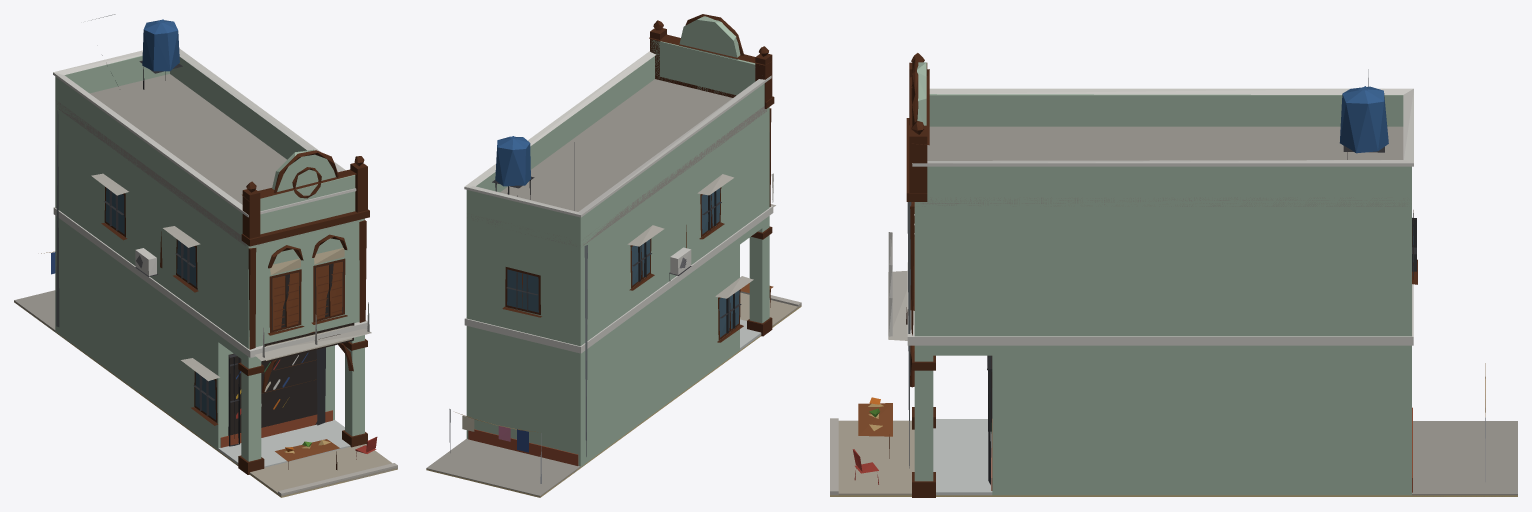
File: bay1_left.glb
The picture shows the model from 3 angles, left to right: view 1: azimuth 30°, elevation 25°; view 2: azimuth 150°, elevation 25°; view 3: azimuth 270°, elevation 25°; orthographic projection. The views are drawn at different scales.
Parts seen in each view (by area): view 1: body, windows; view 2: body, windows; view 3: body.
Boxes of the visible parts, x1,y1,x2,y2 form: body: (14,14,397,497); windows: (105,188,343,435); body: (426,14,801,497); windows: (507,188,739,337); body: (830,53,1517,497).
Bounding box in the file's own units: 4.48 × 10.65 × 15.9.
